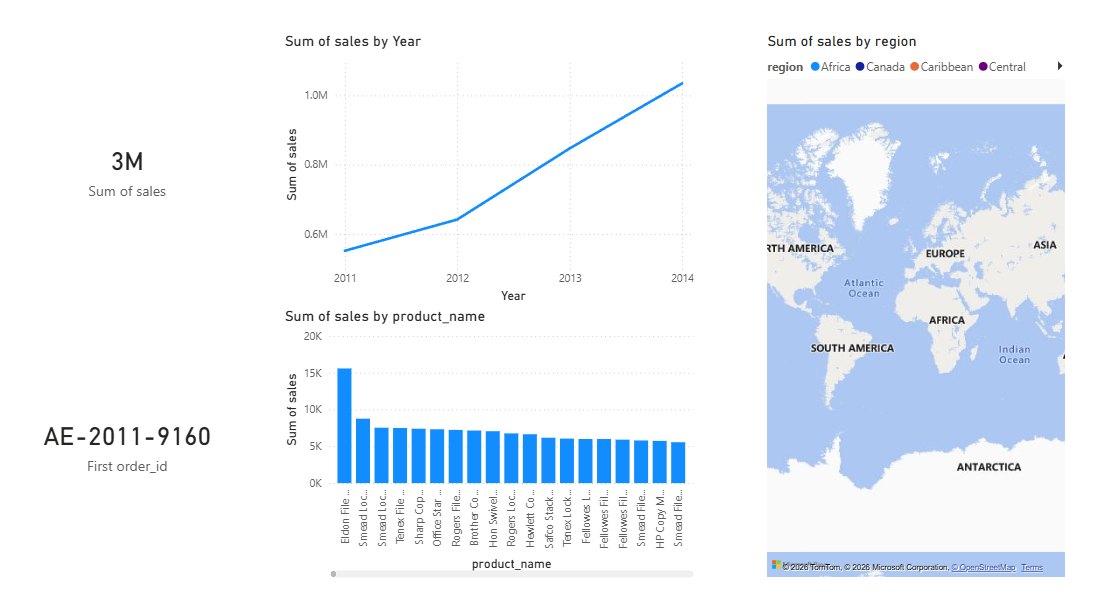

The dashboard page shown, as its layout file describes it:
{"tool":"powerbi","page":{"name":"Page 1","canvas":[1280,720],"ordinal":0},"visuals":[{"type":"card","fields":{"Values":["Sum(sales_cleaned.sales)"]},"box":[48.6,45.7,210,314.3],"z":0},{"type":"card","fields":{"Values":["Min(sales_cleaned.order_id)"]},"box":[48.6,360,210,314.3],"z":1000},{"type":"lineChart","fields":{"Category":["sales_cleaned.order_date.Variation.Date Hierarchy.Year","sales_cleaned.order_date.Variation.Date Hierarchy.Quarter","sales_cleaned.order_date.Variation.Date Hierarchy.Month","sales_cleaned.order_date.Variation.Date Hierarchy.Day"],"Y":["Sum(sales_cleaned.sales)"]},"box":[328.6,45.7,477.1,314.3],"z":2000},{"type":"columnChart","fields":{"Category":["sales_cleaned.product_name"],"Y":["Sum(sales_cleaned.sales)"]},"box":[328.6,360,477.1,314.3],"z":2001},{"type":"map","fields":{"Series":["sales_cleaned.region"],"Size":["Sum(sales_cleaned.sales)"]},"box":[880,45.7,350,628.6],"z":2002}]}

Visuals, with their boxes in screenshot pixels (x1, y1, x2, y2), scaled from the page's 1280x720 canvas onto the 1106x615 screenshot:
card - Sum(sales_cleaned.sales): [left=42, top=39, right=223, bottom=308]
card - Min(sales_cleaned.order_id): [left=42, top=308, right=223, bottom=576]
lineChart - sales_cleaned.order_date.Variation.Date Hierarchy.Year x sales_cleaned.order_date.Variation.Date Hierarchy.Quarter: [left=284, top=39, right=696, bottom=308]
columnChart - sales_cleaned.product_name x Sum(sales_cleaned.sales): [left=284, top=308, right=696, bottom=576]
map - sales_cleaned.region x Sum(sales_cleaned.sales): [left=760, top=39, right=1063, bottom=576]
